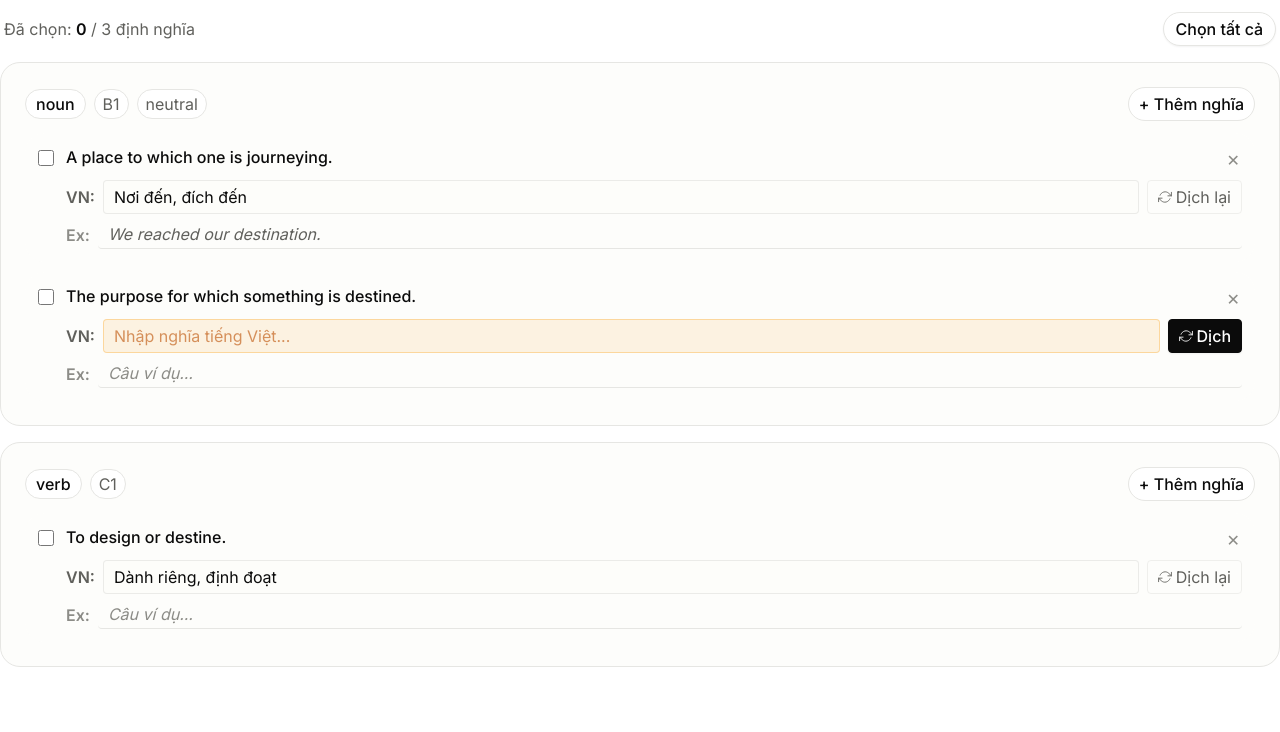
Scenario: MeaningSelector › displays error message when translation fails
Click the button "Dịch" at (1205, 336), box [1168, 319, 1242, 353]
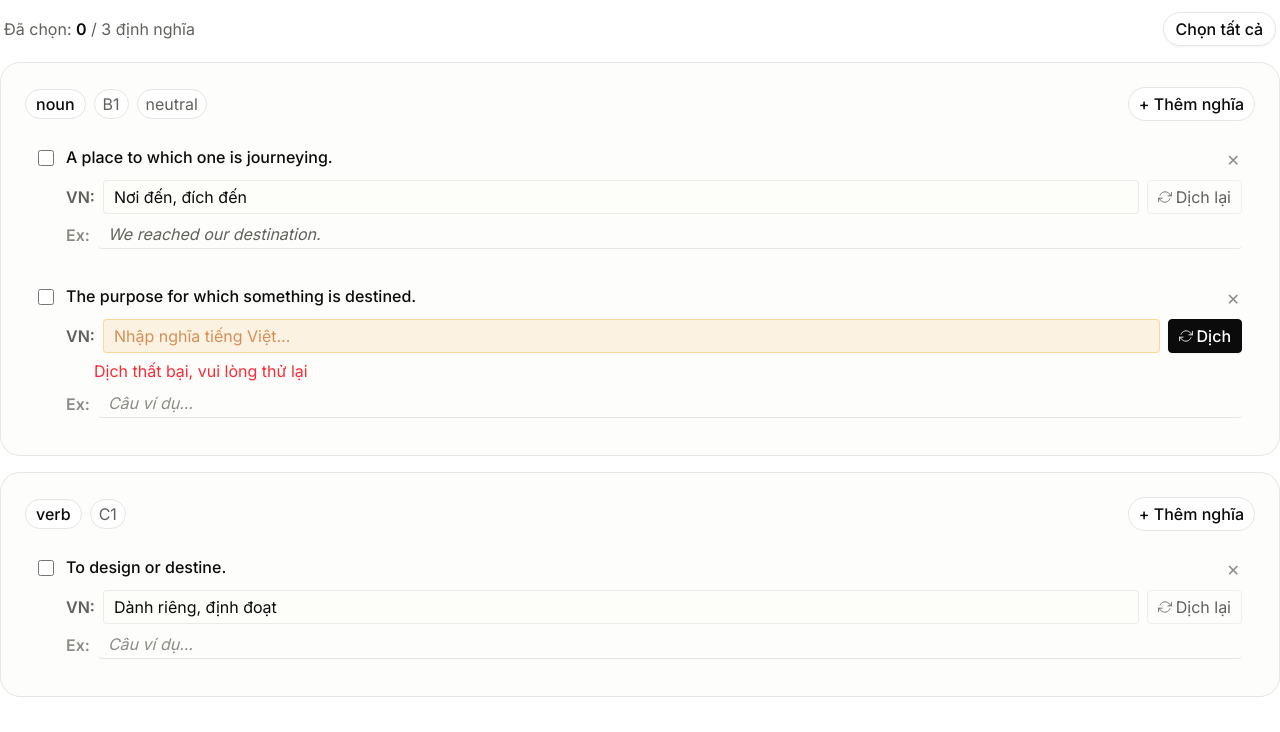
expect the text "Dịch thất bại, vui lòng thử lại" is shown: met, box [94, 361, 308, 381]
